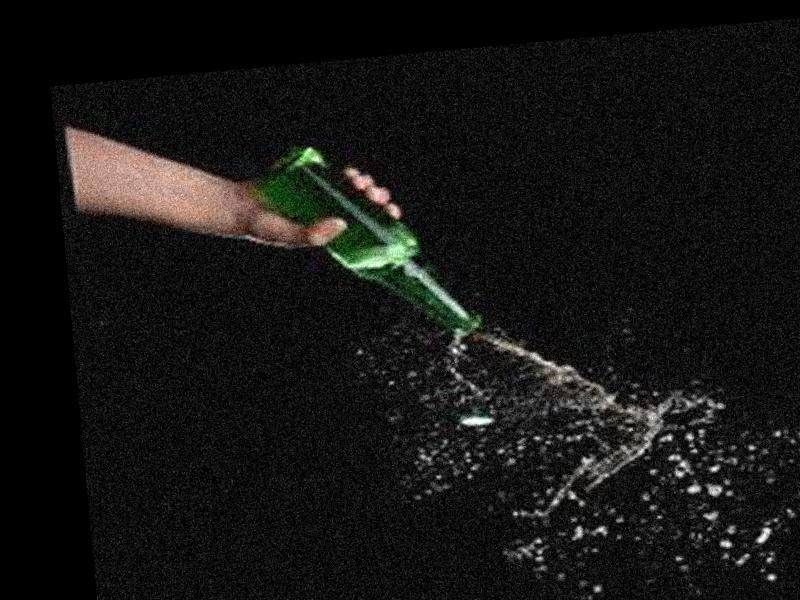Beer: (244, 128, 479, 354)
